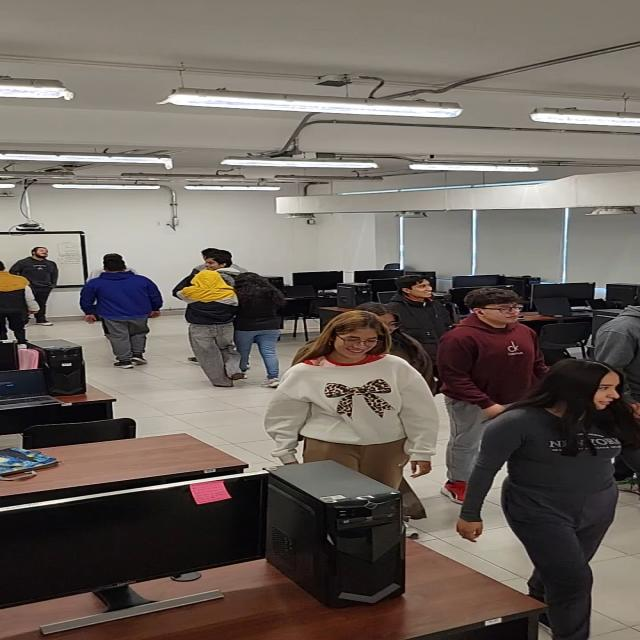Persona: (456, 357, 640, 640), (266, 310, 444, 487), (432, 285, 545, 503), (586, 298, 640, 494), (76, 259, 166, 370), (171, 271, 245, 388), (234, 268, 291, 388), (385, 277, 455, 347), (7, 247, 68, 327), (0, 262, 44, 346), (180, 249, 266, 280)
